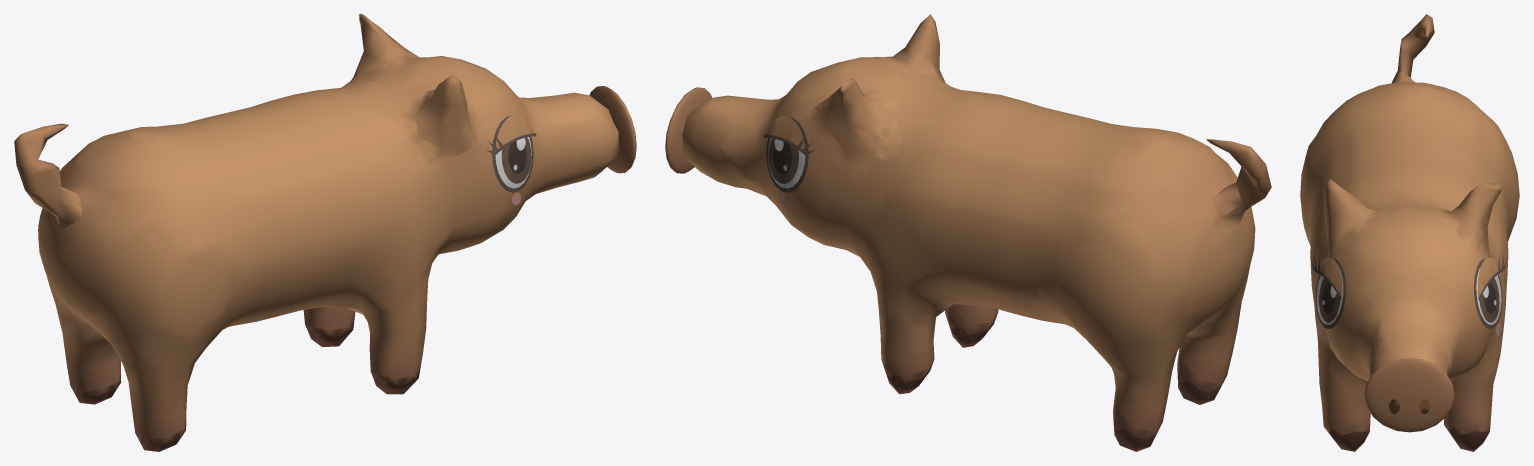
Rendered from tamworth_pig.glb.
3 views of the same model, side by side, from view 1: azimuth 30°, elevation 25°; view 2: azimuth 150°, elevation 25°; view 3: azimuth 270°, elevation 25° (orthographic). The views are drawn at different scales.
Parts seen in each view (by area): view 1: tamworth_pig; view 2: tamworth_pig; view 3: tamworth_pig.
Boxes of the visible parts, x1,y1,x2,y2 form: tamworth_pig: [14, 14, 636, 451]; tamworth_pig: [665, 14, 1271, 451]; tamworth_pig: [1300, 14, 1519, 451].
Bounding box in the file's own units: 0.8482 × 0.432 × 0.2931.
